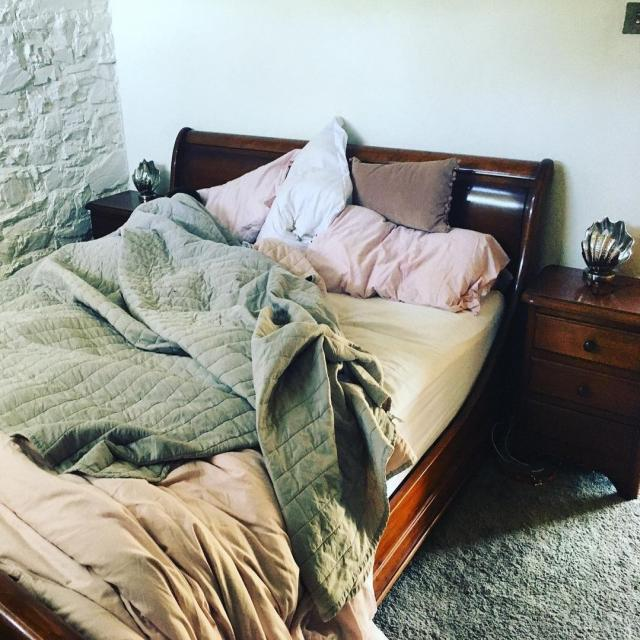bed: (0, 120, 512, 635)
